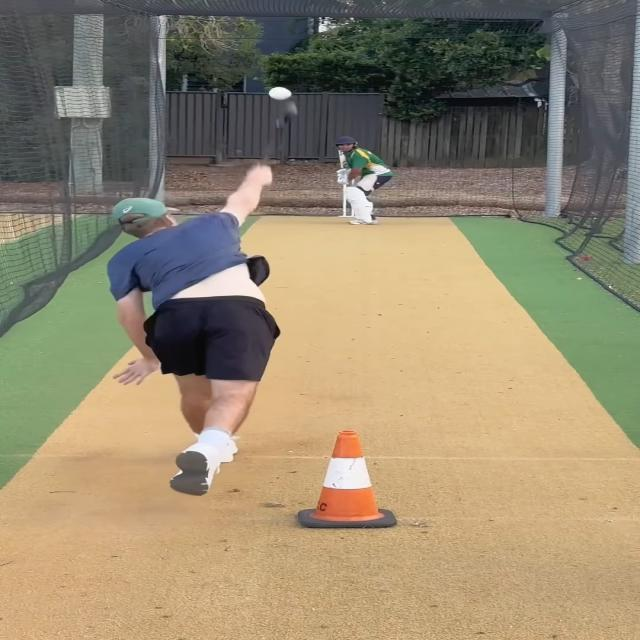Cricket ball: (264, 84, 294, 105)
